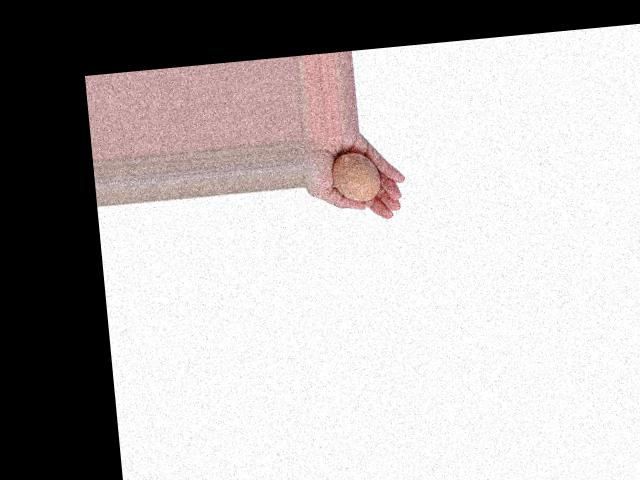egg: (331, 150, 382, 203)
